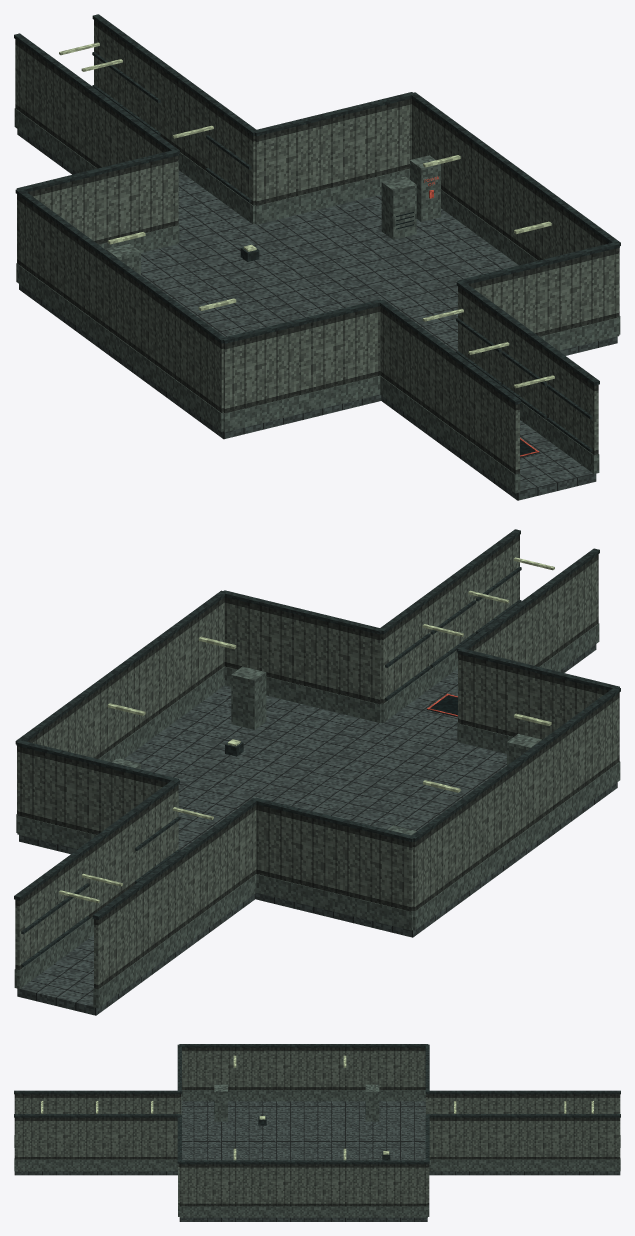
The model's file is FERI_Route_C.fbx.
The picture shows the model from 3 angles, top to bottom: view 1: azimuth 30°, elevation 25°; view 2: azimuth 150°, elevation 25°; view 3: azimuth 270°, elevation 25°; orthographic projection. The views are drawn at different scales.
Parts seen in each view (by area): view 1: PL_Route_C_Wall, PL_Route_C_Floor, PL_Route_C_Concrete, PL_Route_C_Iron, PL_Route_C_Tube; view 2: PL_Route_C_Wall, PL_Route_C_Floor, PL_Route_C_Concrete, PL_Route_C_Iron, PL_Route_C_Tube; view 3: PL_Route_C_Wall, PL_Route_C_Floor, PL_Route_C_Concrete, PL_Route_C_Iron, PL_Route_C_Tube.
Boxes of the visible parts, x1,y1,x2,y2 form: PL_Route_C_Wall: (15,20,619,474); PL_Route_C_Floor: (17,129,617,500); PL_Route_C_Concrete: (14,108,620,493); PL_Route_C_Iron: (14,14,620,452); PL_Route_C_Tube: (59,42,554,388); PL_Route_C_Wall: (15,535,619,989); PL_Route_C_Floor: (17,644,617,1015); PL_Route_C_Concrete: (14,623,620,1008); PL_Route_C_Iron: (14,529,620,967); PL_Route_C_Tube: (59,557,554,903); PL_Route_C_Wall: (14,1047,620,1206); PL_Route_C_Floor: (14,1101,620,1221); PL_Route_C_Concrete: (14,1084,620,1217); PL_Route_C_Iron: (14,1044,620,1164); PL_Route_C_Tube: (41,1055,593,1160).
Bounding box in the file's own units: 20.3 × 4.86 × 44.08.
Materials: 7 (7 with a texture image).
